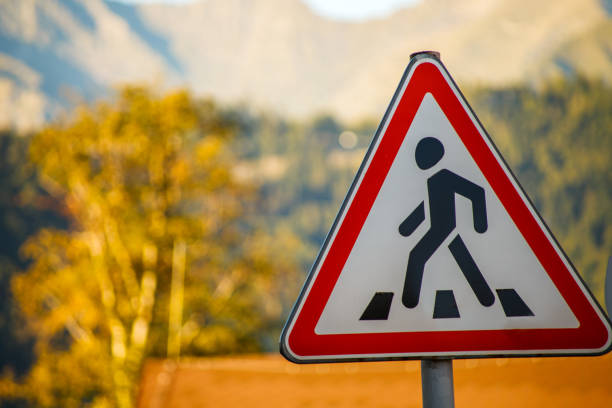pedestrian: (296, 89, 596, 349)
